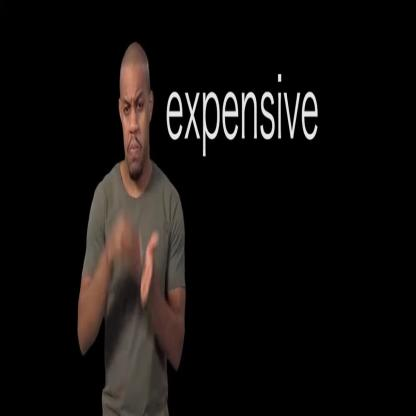Expensive: (100, 199, 174, 345)
